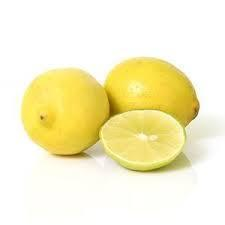lemon: (21, 66, 110, 154), (104, 56, 200, 128), (98, 110, 186, 172)
